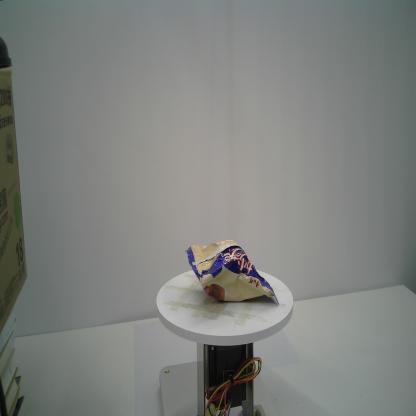Dessert: (184, 239, 278, 304)
